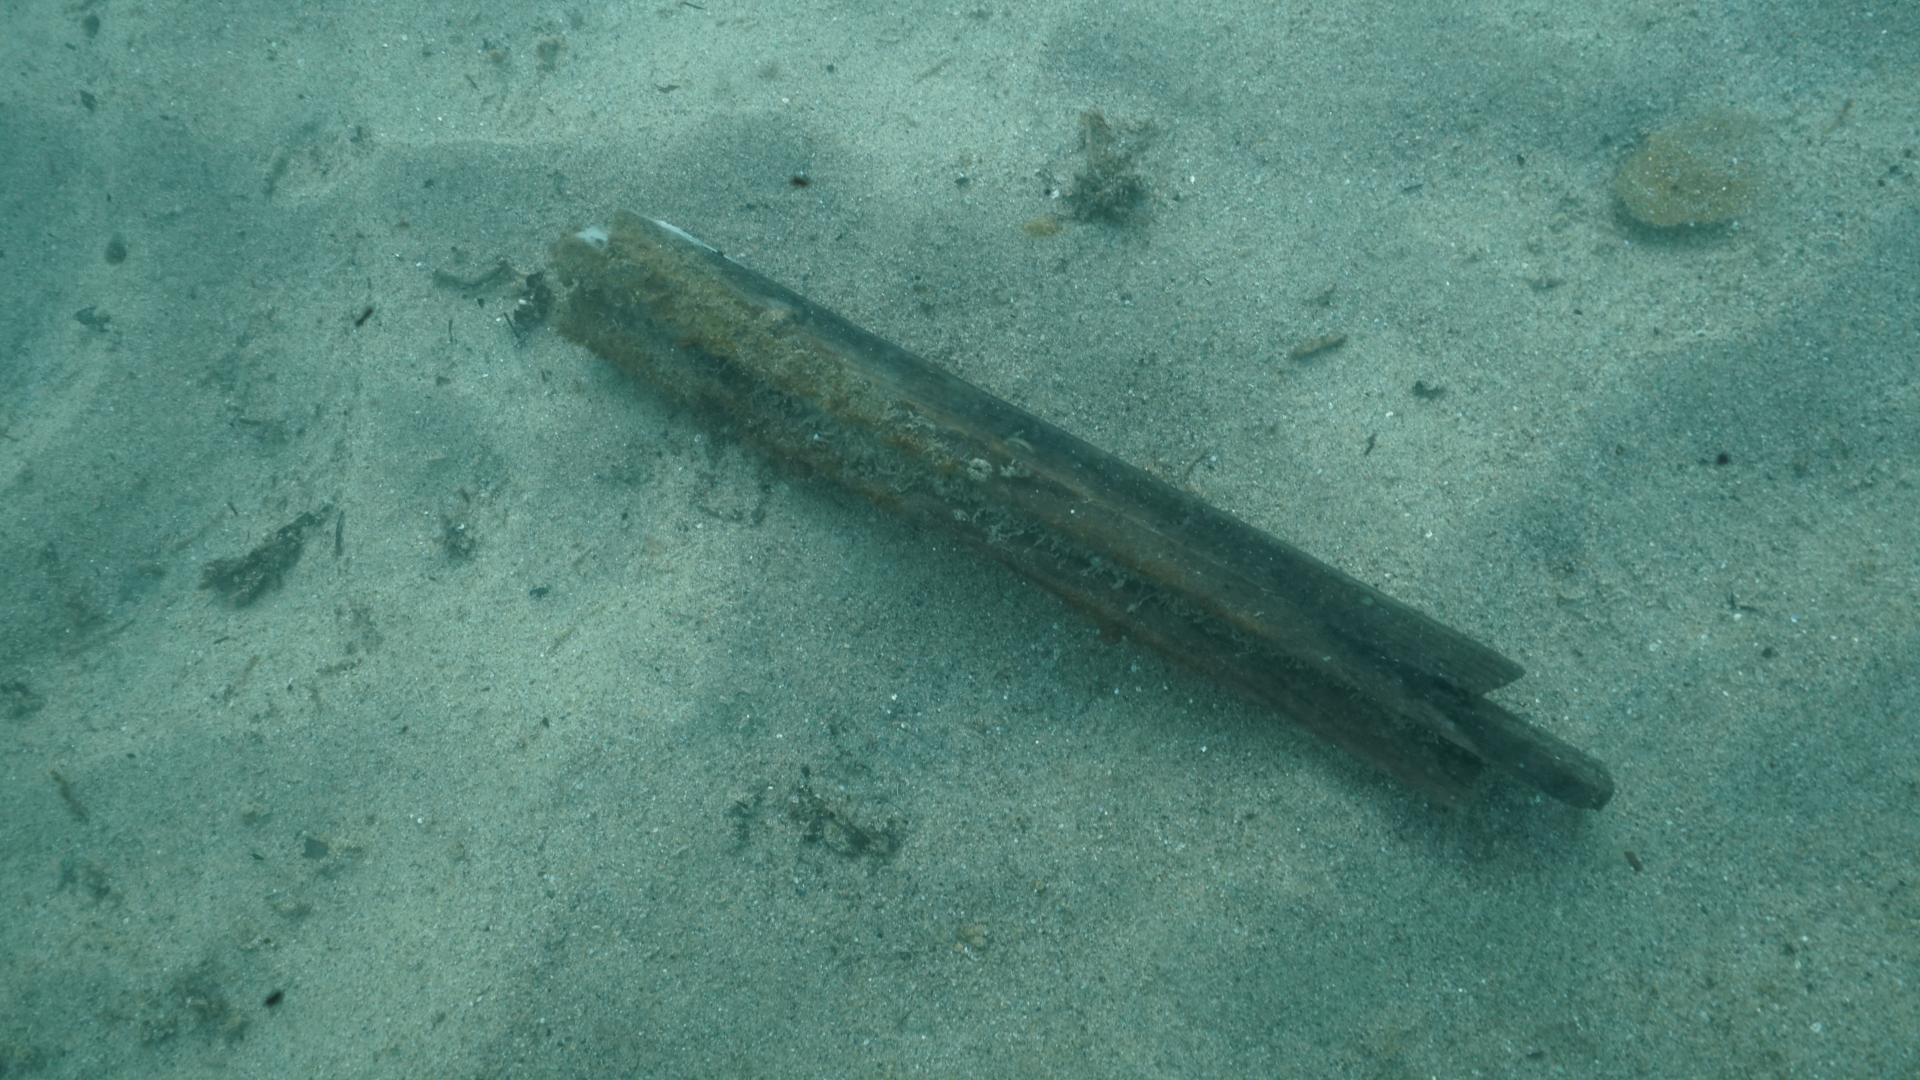wood: (550, 206, 1615, 814)
